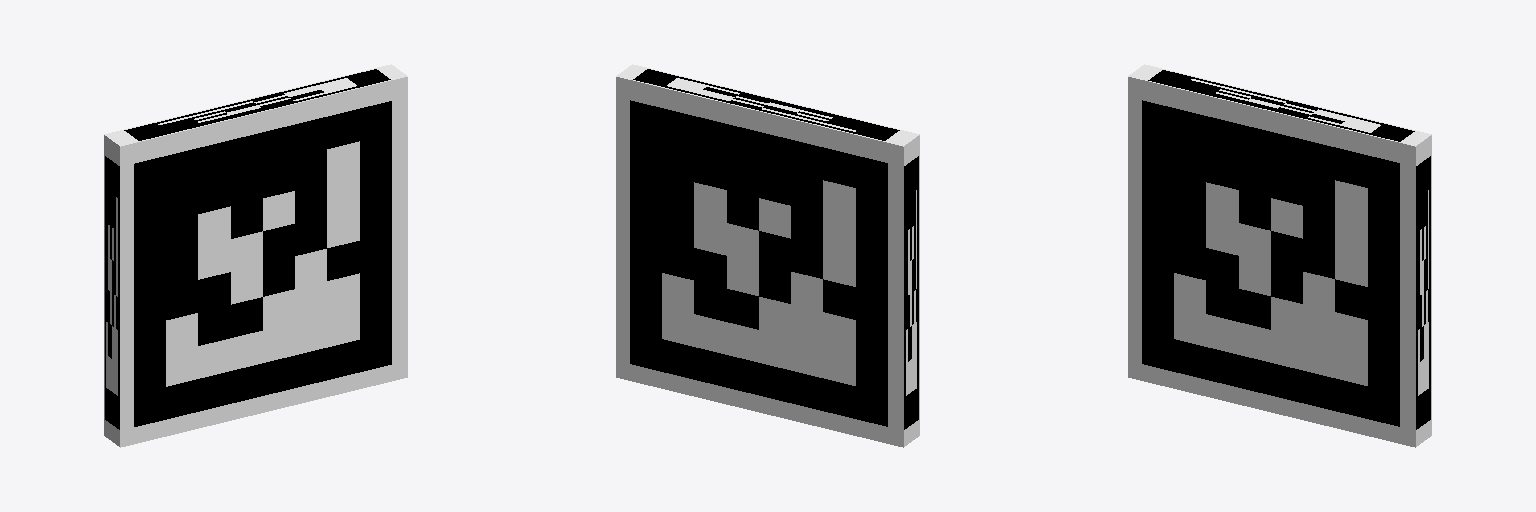
3 renders of one model, left to right at view 1: azimuth 30°, elevation 25°; view 2: azimuth 150°, elevation 25°; view 3: azimuth 330°, elevation 25°, orthographic.
Parts seen in each view (by area): view 1: Cube; view 2: Cube; view 3: Cube.
Part boxes in pixels (x1,y1,x2,y2): Cube: (104, 64, 407, 447); Cube: (616, 64, 919, 447); Cube: (1128, 64, 1431, 447).
Size of the model in its own units: 2 by 2 by 0.2.
1 materials, 1 textured.